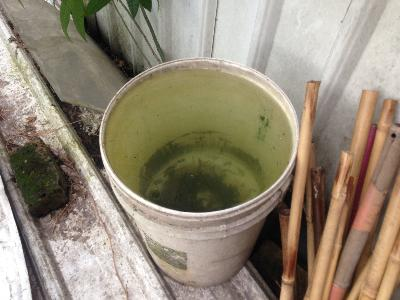bucket: (97, 55, 301, 288)
